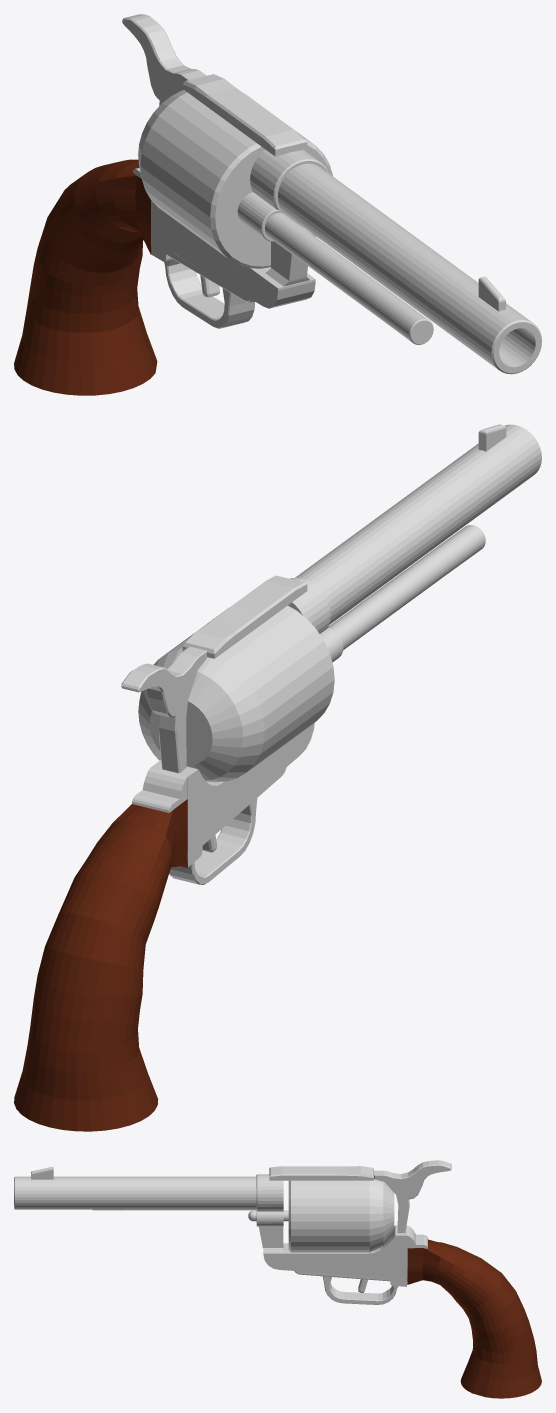
Rendered from revolver.fbx.
3 views of the same model, one above another, from view 1: azimuth 30°, elevation 25°; view 2: azimuth 150°, elevation 25°; view 3: azimuth 270°, elevation 25° (orthographic). The views are drawn at different scales.
Parts seen in each view (by area): view 1: držadlo, hlavní hlaveň, bubínek, vedlejší věc k hlavní, tělo1, Cube.001, Cube, spoušť1.001, uchycení hlavně, Cube.002, Cube.004, mířidlo; view 2: držadlo, bubínek, hlavní hlaveň, vedlejší věc k hlavní, tělo1, spoušť1.001, Cube.001, Cube, Cube.003, uchycení hlavně; view 3: držadlo, hlavní hlaveň, bubínek, tělo1, spoušť1.001, Cube.001, Cube, uchycení hlavně, Cube.002, Cube.004, uchycení bubínku, Cube.003 (+1 smaller).
Part boxes in pixels (<box>): držadlo: <box>14,159,157,395</box>; hlavní hlaveň: <box>277,163,541,374</box>; bubínek: <box>138,90,332,268</box>; vedlejší věc k hlavní: <box>237,192,433,344</box>; tělo1: <box>151,200,315,308</box>; Cube.001: <box>182,74,307,156</box>; Cube: <box>164,259,254,328</box>; spoušť1.001: <box>122,14,206,105</box>; uchycení hlavně: <box>250,149,328,219</box>; Cube.002: <box>265,241,309,286</box>; Cube.004: <box>151,241,254,302</box>; mířidlo: <box>478,276,505,311</box>; držadlo: <box>14,799,187,1131</box>; bubínek: <box>138,605,334,782</box>; hlavní hlaveň: <box>295,424,541,624</box>; vedlejší věc k hlavní: <box>320,525,485,662</box>; tělo1: <box>151,723,314,853</box>; spoušť1.001: <box>121,646,206,773</box>; Cube.001: <box>182,575,307,658</box>; Cube: <box>169,798,257,884</box>; Cube.003: <box>132,767,187,812</box>; uchycení hlavně: <box>288,577,330,633</box>; držadlo: <box>407,1239,541,1398</box>; hlavní hlaveň: <box>14,1176,256,1209</box>; bubínek: <box>288,1179,394,1252</box>; tělo1: <box>263,1225,406,1278</box>; spoušť1.001: <box>374,1160,451,1232</box>; Cube.001: <box>269,1166,373,1180</box>; Cube: <box>323,1276,397,1304</box>; uchycení hlavně: <box>256,1174,283,1211</box>; Cube.002: <box>258,1226,284,1252</box>; Cube.004: <box>294,1268,407,1286</box>; uchycení bubínku: <box>256,1211,283,1226</box>; Cube.003: <box>407,1225,427,1248</box>.
Bounding box in the file's own units: 230 × 681 × 1487.
